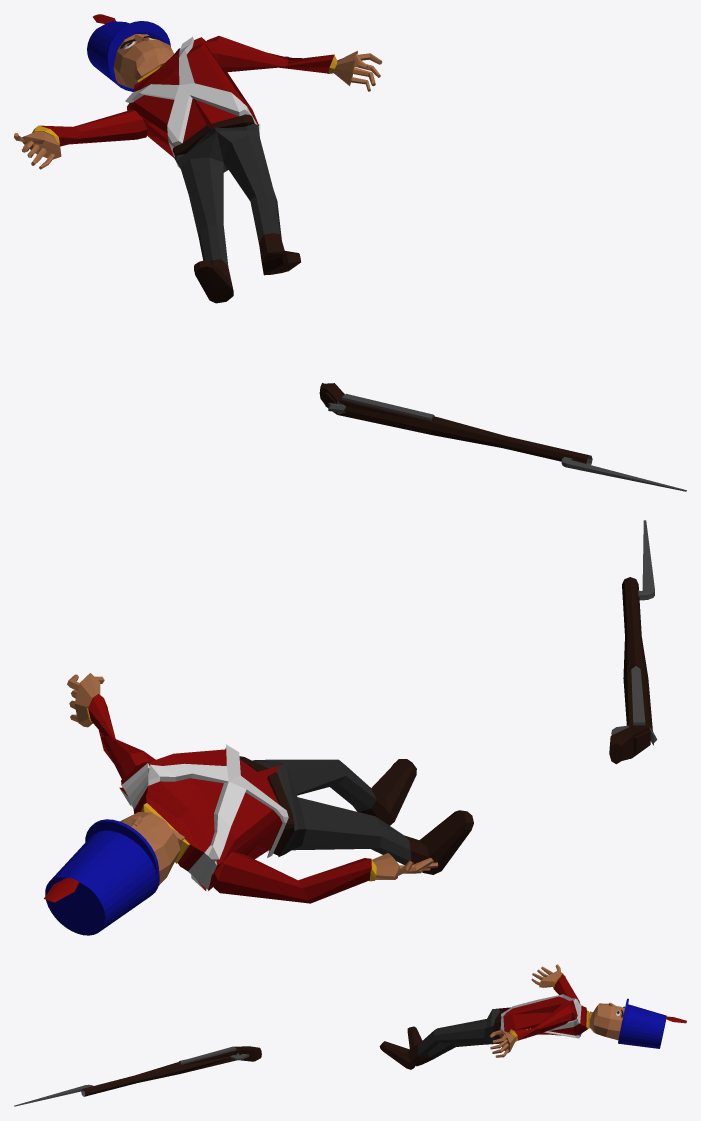
Rendered from frame4.obj.
3 views of the same model, one above another, from view 1: azimuth 30°, elevation 25°; view 2: azimuth 150°, elevation 25°; view 3: azimuth 270°, elevation 25° (orthographic). The views are drawn at different scales.
Visible parts, largest first — view 1: {Man}_Circle, {Mesket}_Cube.001; view 2: {Man}_Circle, {Mesket}_Cube.001; view 3: {Man}_Circle, {Mesket}_Cube.001.
Boxes of the visible parts, left/top/right/bottom form: {Man}_Circle: left=14, top=14, right=382, bottom=303; {Mesket}_Cube.001: left=319, top=383, right=686, bottom=491; {Man}_Circle: left=44, top=673, right=473, bottom=935; {Mesket}_Cube.001: left=609, top=520, right=657, bottom=764; {Man}_Circle: left=379, top=964, right=686, bottom=1069; {Mesket}_Cube.001: left=14, top=1046, right=261, bottom=1106.
Bounding box in the file's own units: 12.94 × 6.06 × 36.89.
